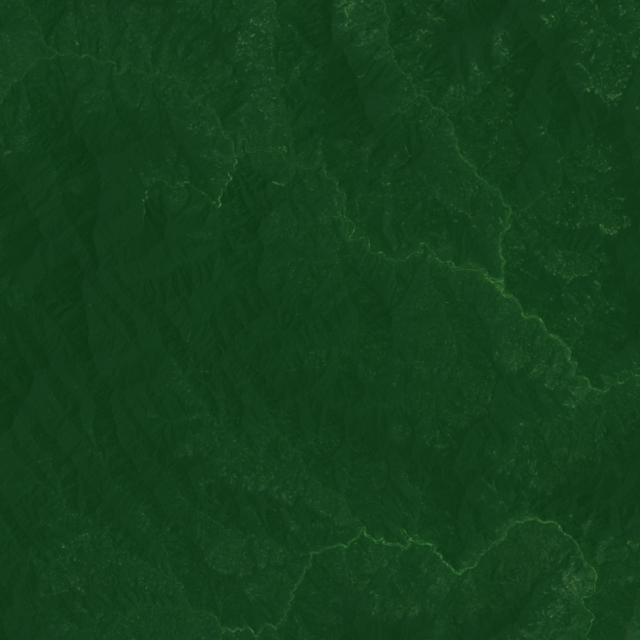landslides: (575, 62, 592, 78), (481, 477, 497, 492)
